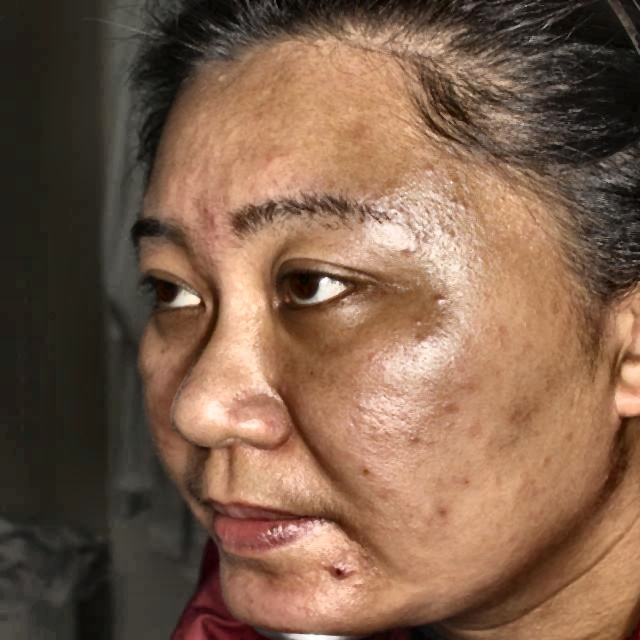pustule: (316, 553, 362, 584), (196, 207, 233, 228), (431, 503, 457, 515), (356, 452, 371, 469)
